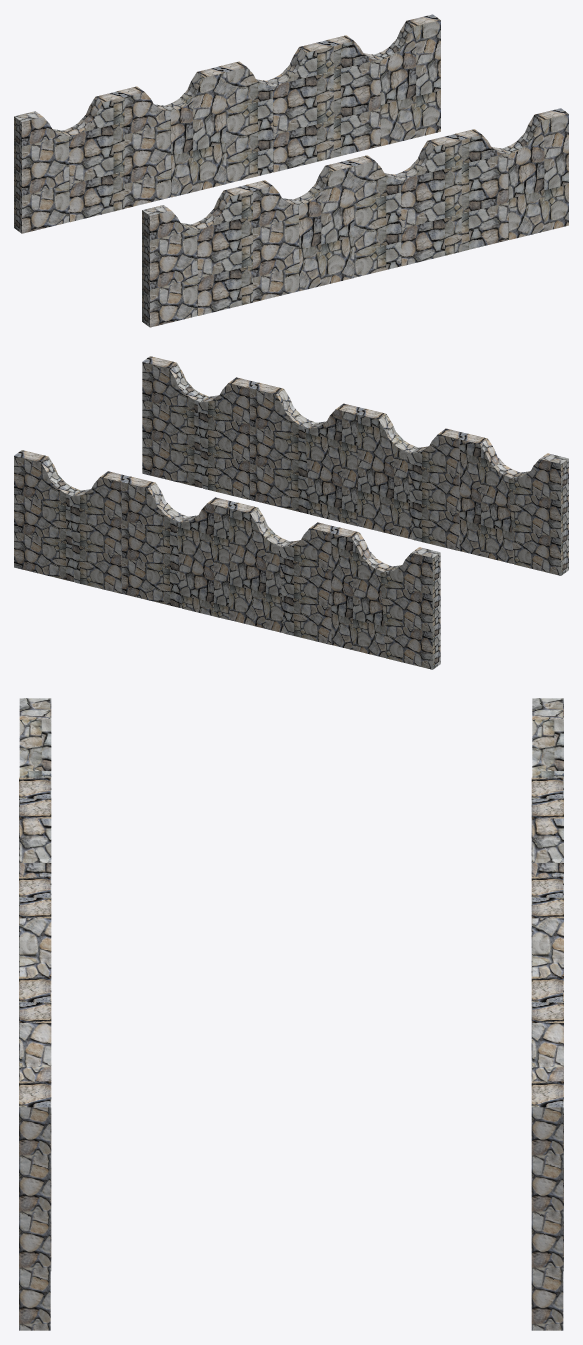
File: muros 2.fbx
The picture shows the model from 3 angles, top to bottom: view 1: azimuth 30°, elevation 25°; view 2: azimuth 150°, elevation 25°; view 3: azimuth 270°, elevation 25°; orthographic projection. The views are drawn at different scales.
Visible parts, largest first — view 1: Cube.004, Cube.003; view 2: Cube.003, Cube.004; view 3: Cube.003, Cube.004.
Part boxes in pixels (x1,y1,x2,y2): Cube.004: (14,14,440,233); Cube.003: (142,108,568,327); Cube.003: (142,356,568,575); Cube.004: (14,450,440,669); Cube.003: (19,698,51,1330); Cube.004: (531,698,563,1330).
Size of the model in its own units: 1886 by 481 by 1063.
